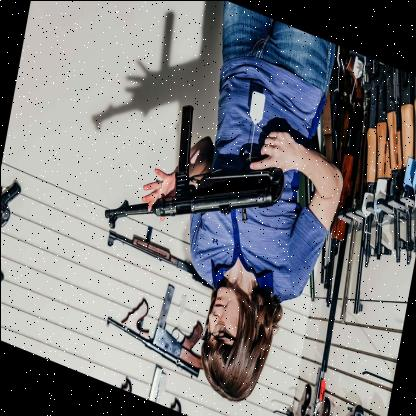rifle: (99, 75, 290, 292)
